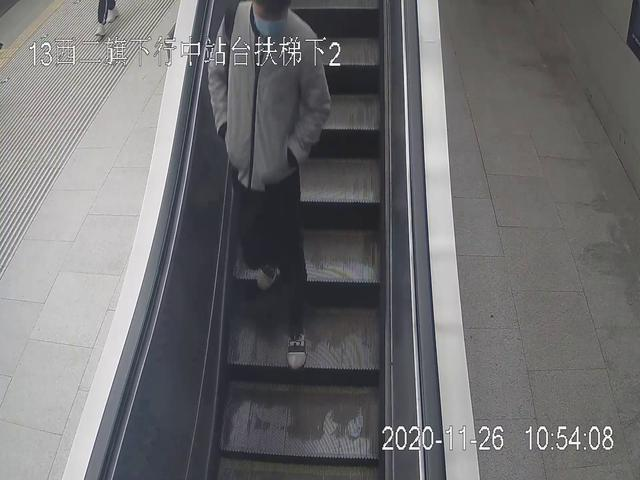person: (207, 1, 332, 370)
